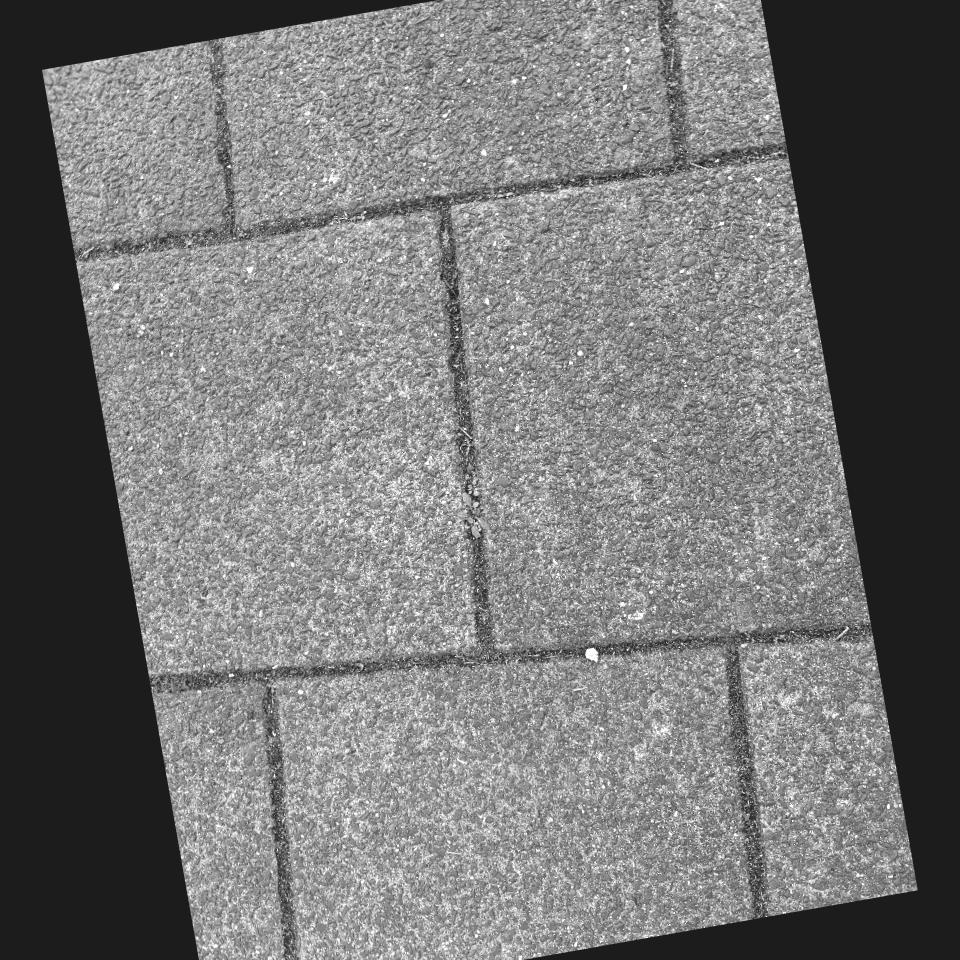weed: (457, 480, 490, 539), (497, 192, 515, 198)
